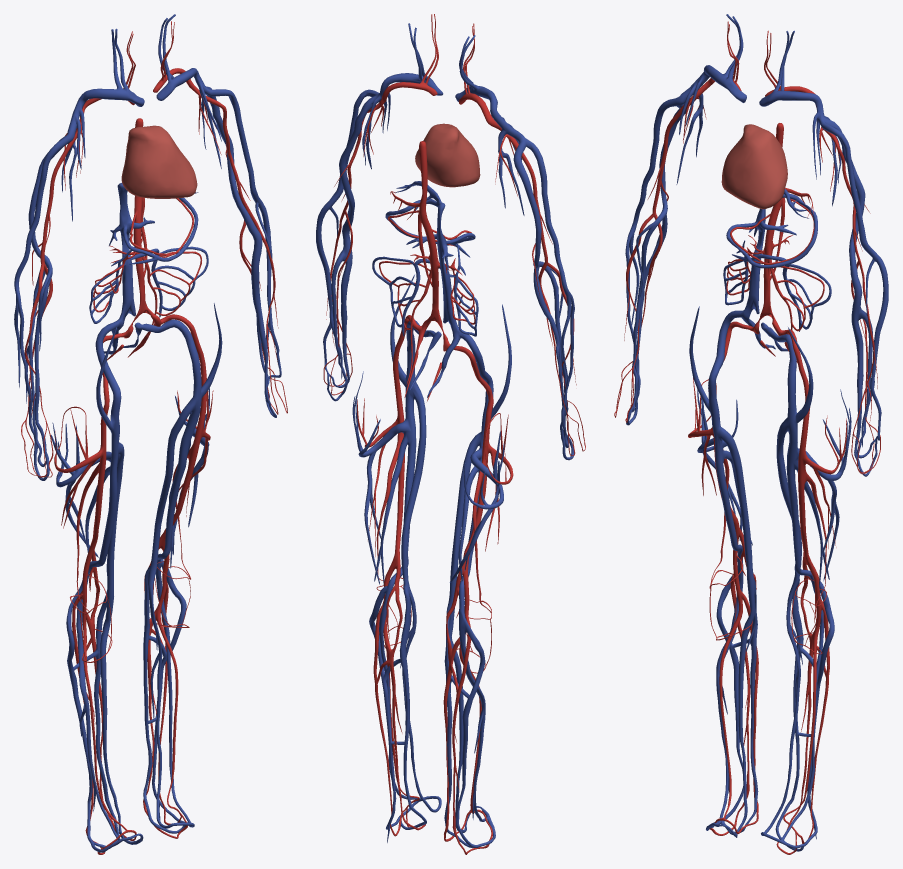
Rendered from pediatric_child_10y_male.cardiovascular.LOD1.glb.
3 renders of one model, left to right at view 1: azimuth 30°, elevation 25°; view 2: azimuth 150°, elevation 25°; view 3: azimuth 330°, elevation 25°, orthographic.
Visible parts, largest first — view 1: PEDIATRIC.CHILD_10Y.MALE.CARDIOVASCULAR.BLOOD_IN_LARGE_VEINS, PEDIATRIC.CHILD_10Y.MALE.CARDIOVASCULAR.BLOOD_IN_LARGE_ARTER, PEDIATRIC.CHILD_10Y.MALE.CARDIOVASCULAR.HEART_WALL; view 2: PEDIATRIC.CHILD_10Y.MALE.CARDIOVASCULAR.BLOOD_IN_LARGE_VEINS, PEDIATRIC.CHILD_10Y.MALE.CARDIOVASCULAR.BLOOD_IN_LARGE_ARTER, PEDIATRIC.CHILD_10Y.MALE.CARDIOVASCULAR.HEART_WALL; view 3: PEDIATRIC.CHILD_10Y.MALE.CARDIOVASCULAR.BLOOD_IN_LARGE_VEINS, PEDIATRIC.CHILD_10Y.MALE.CARDIOVASCULAR.BLOOD_IN_LARGE_ARTER, PEDIATRIC.CHILD_10Y.MALE.CARDIOVASCULAR.HEART_WALL.
Part boxes in pixels (<box>): PEDIATRIC.CHILD_10Y.MALE.CARDIOVASCULAR.BLOOD_IN_LARGE_VEINS: <box>14,14,281,852</box>; PEDIATRIC.CHILD_10Y.MALE.CARDIOVASCULAR.BLOOD_IN_LARGE_ARTER: <box>21,21,287,854</box>; PEDIATRIC.CHILD_10Y.MALE.CARDIOVASCULAR.HEART_WALL: <box>121,125,197,198</box>; PEDIATRIC.CHILD_10Y.MALE.CARDIOVASCULAR.BLOOD_IN_LARGE_VEINS: <box>316,23,574,847</box>; PEDIATRIC.CHILD_10Y.MALE.CARDIOVASCULAR.BLOOD_IN_LARGE_ARTER: <box>323,14,585,854</box>; PEDIATRIC.CHILD_10Y.MALE.CARDIOVASCULAR.HEART_WALL: <box>415,123,480,187</box>; PEDIATRIC.CHILD_10Y.MALE.CARDIOVASCULAR.BLOOD_IN_LARGE_VEINS: <box>625,14,888,851</box>; PEDIATRIC.CHILD_10Y.MALE.CARDIOVASCULAR.BLOOD_IN_LARGE_ARTER: <box>614,21,880,854</box>; PEDIATRIC.CHILD_10Y.MALE.CARDIOVASCULAR.HEART_WALL: <box>721,124,787,209</box>.
Bounding box in the file's own units: 0.4063 × 1.24 × 0.1452.
